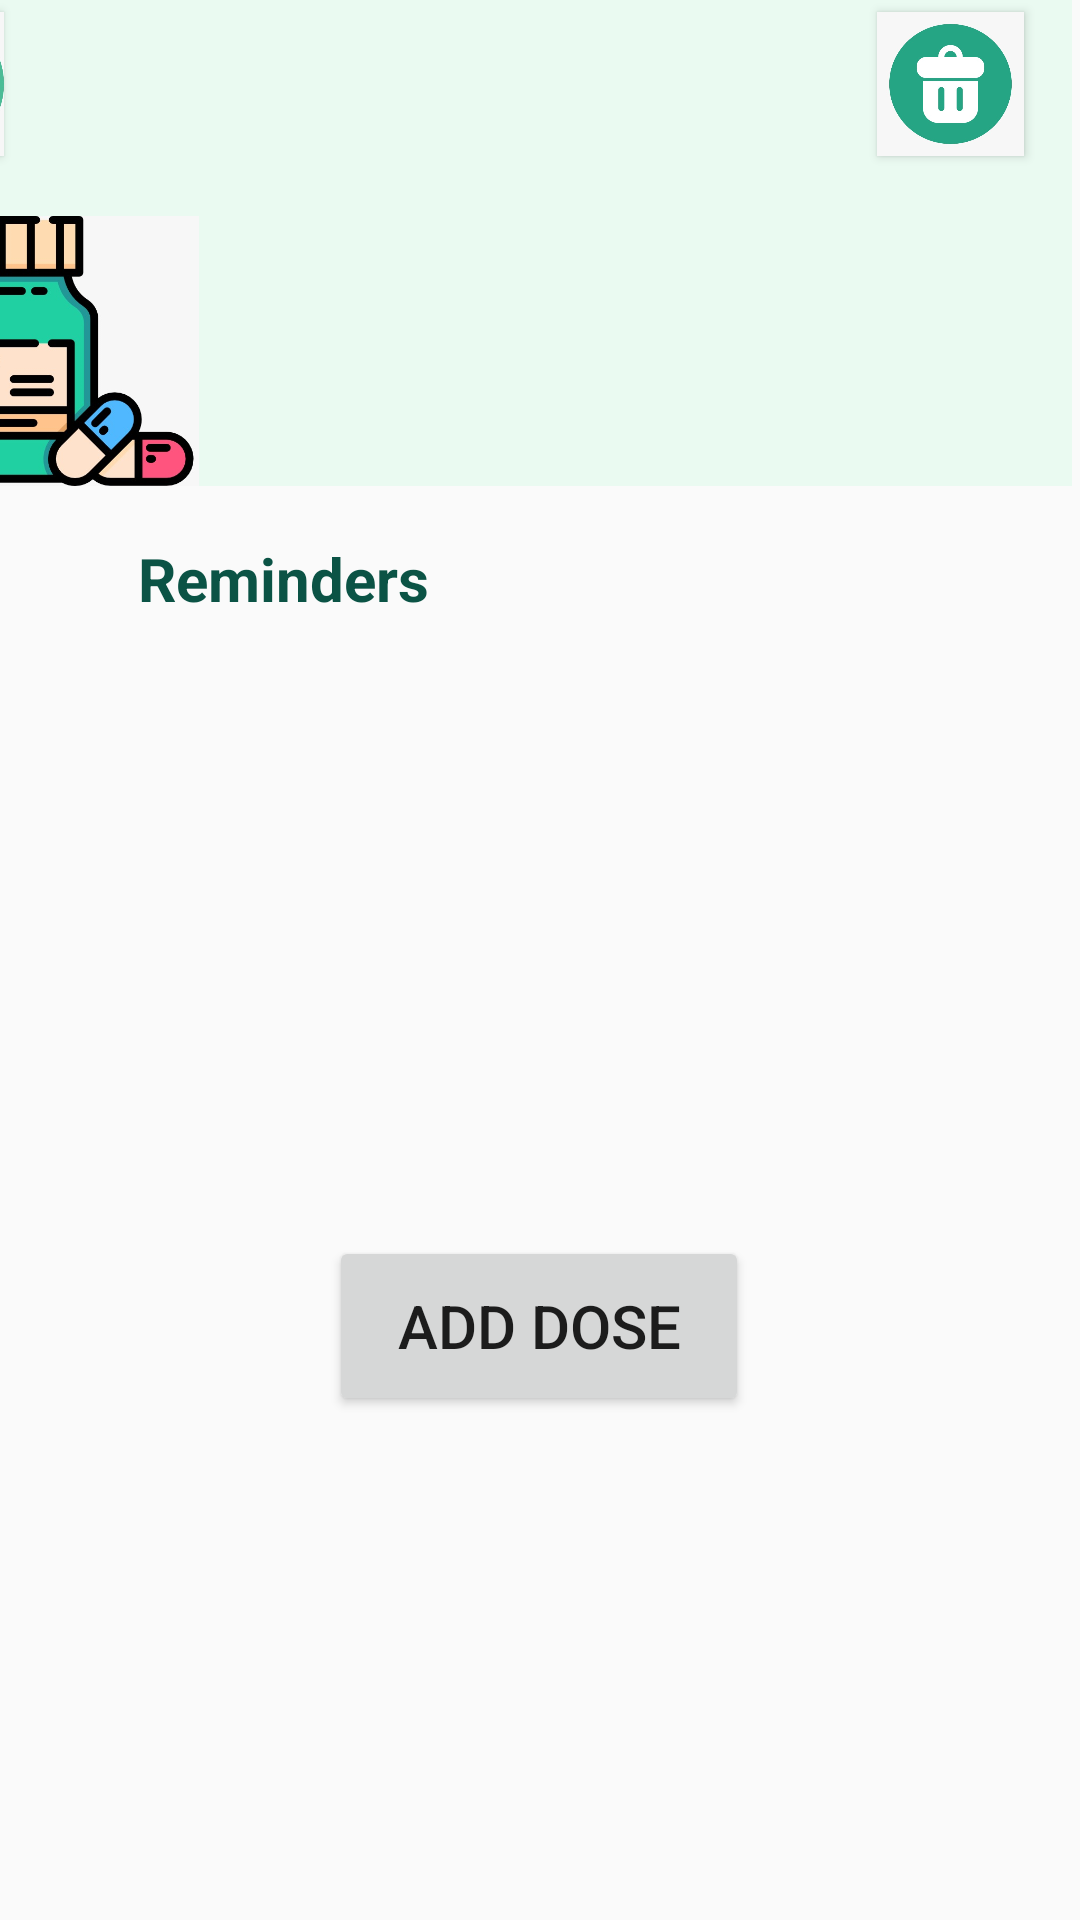

Locate icon controls on the screen. Image size 1080x1920, boxes as (left=x1, top=y1, right=x2, bottom=y2).
deletebtn: (left=889, top=24, right=1012, bottom=146)
